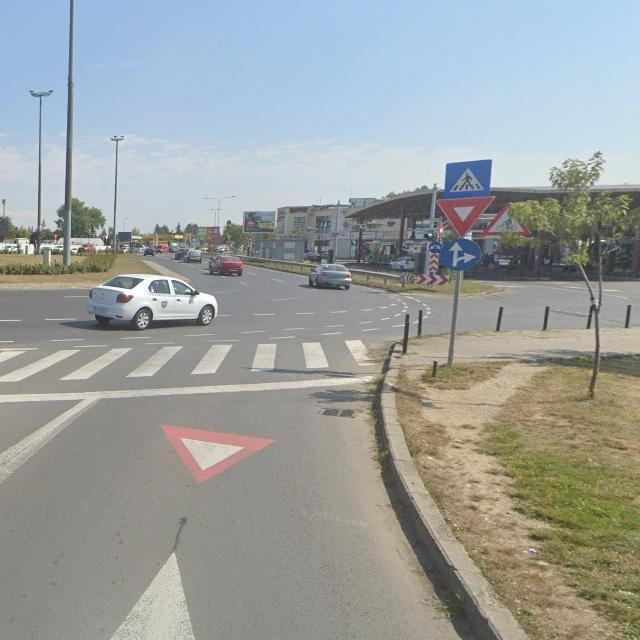info_crosswalk: (445, 159, 492, 199)
prio_give_way: (160, 422, 278, 485), (437, 196, 497, 239)
